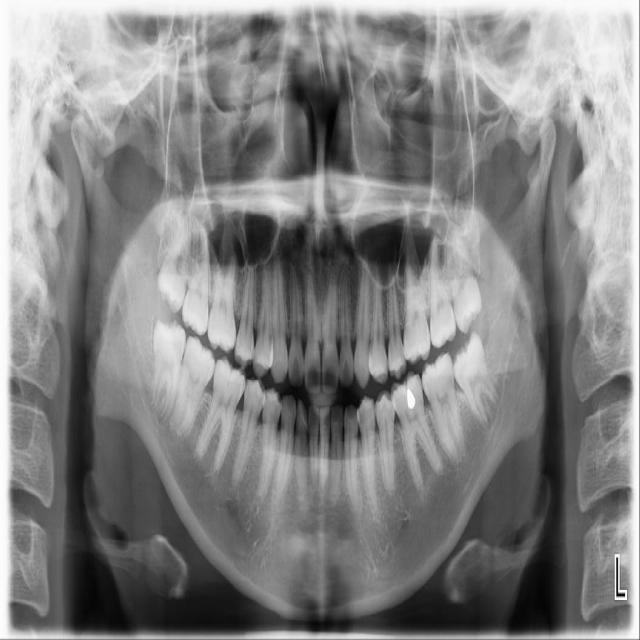Filling: (407, 388, 415, 410)
impacted tooth: (451, 334, 500, 428), (149, 321, 189, 426)
